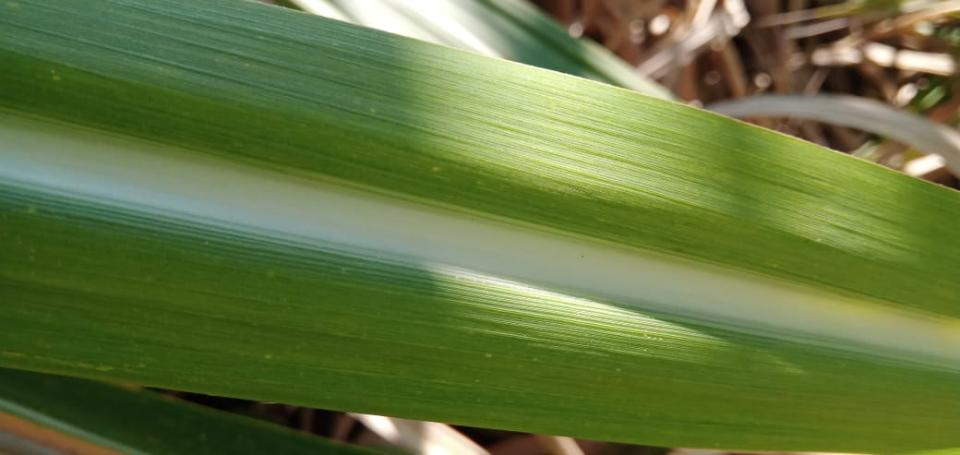Healthy: (0, 0, 959, 452)
